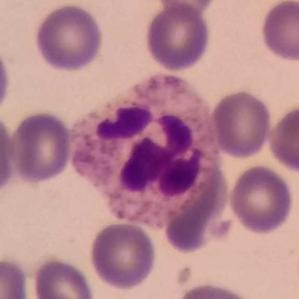Neutrophil: (64, 72, 228, 233)
RBC: (32, 1, 106, 73), (87, 220, 159, 292), (142, 1, 213, 73), (227, 163, 296, 236), (7, 109, 74, 184), (209, 87, 274, 160), (30, 255, 97, 299), (258, 0, 299, 64), (266, 103, 299, 175), (171, 280, 258, 299), (0, 110, 18, 199), (0, 255, 32, 299), (153, 0, 218, 18), (0, 41, 13, 116)
